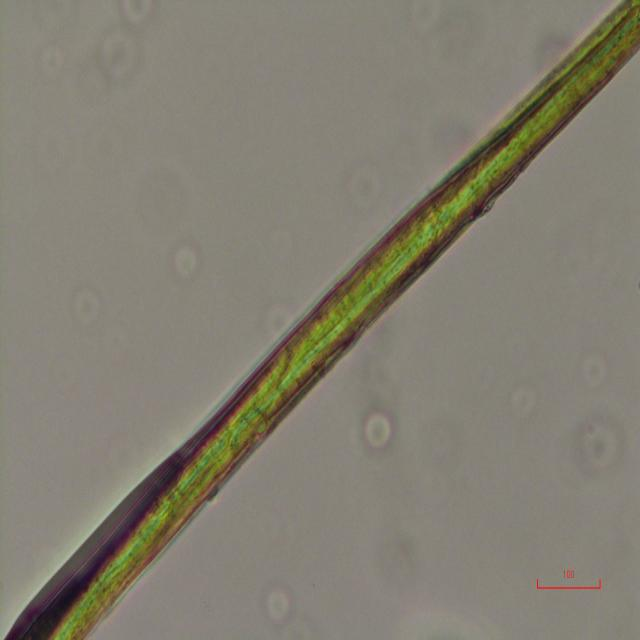Background material: (100, 1, 158, 86), (572, 427, 626, 483), (358, 403, 398, 459), (262, 582, 299, 628), (168, 242, 204, 286)
Microfibre: (20, 0, 639, 639)
